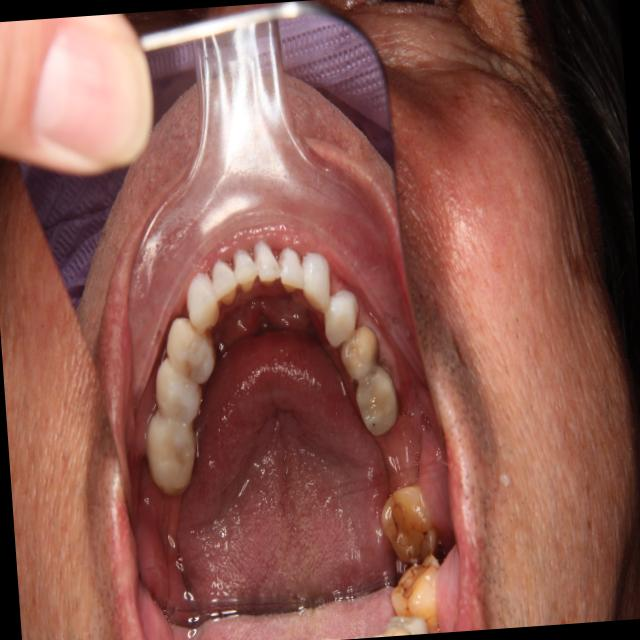tooth: (375, 482, 445, 565), (142, 411, 202, 503), (159, 308, 221, 393), (149, 348, 206, 431), (350, 364, 405, 441), (180, 266, 226, 341), (335, 319, 384, 387), (318, 286, 366, 351), (296, 248, 339, 314), (271, 237, 308, 295), (228, 240, 264, 298), (205, 253, 241, 308), (253, 231, 283, 294)
